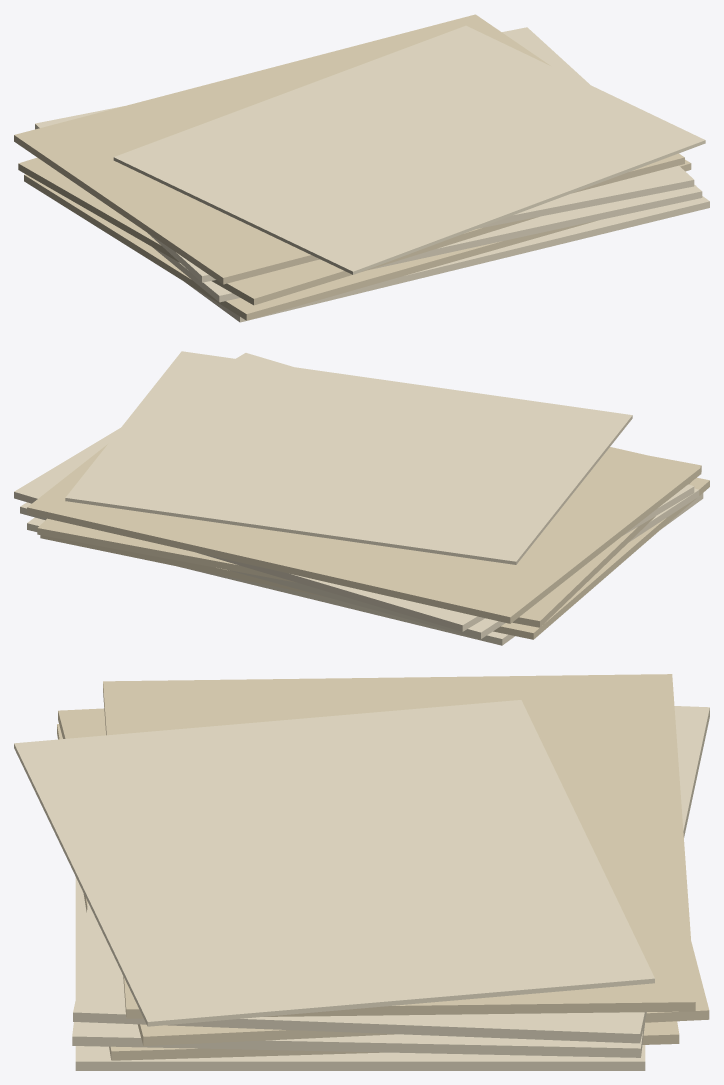
The model's file is prop-parchment-sheet-stack.fbx.
3 views of the same model, one above another, from view 1: azimuth 30°, elevation 25°; view 2: azimuth 150°, elevation 25°; view 3: azimuth 270°, elevation 25° (orthographic). The views are drawn at different scales.
Visible parts, largest first — view 1: prop-parchment-sheet-stack; view 2: prop-parchment-sheet-stack; view 3: prop-parchment-sheet-stack.
Boxes of the visible parts, x1,y1,x2,y2 form: prop-parchment-sheet-stack: (14, 14, 709, 322); prop-parchment-sheet-stack: (14, 351, 709, 645); prop-parchment-sheet-stack: (14, 674, 709, 1070).
Bounding box in the file's own units: 33.24 × 2.7 × 26.89.
